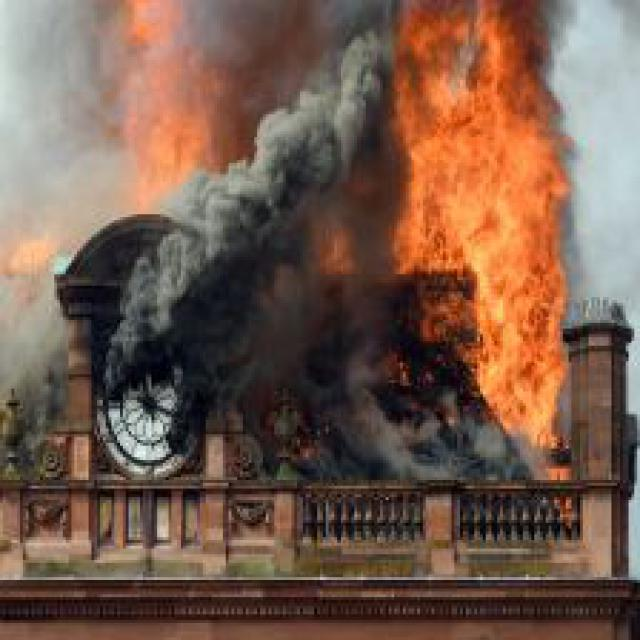fire: (372, 3, 594, 486), (100, 6, 254, 191)
